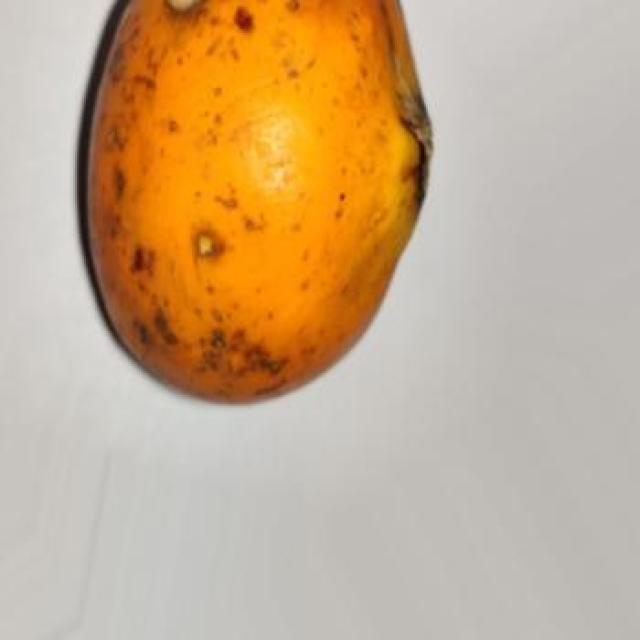good: (79, 0, 433, 408)
